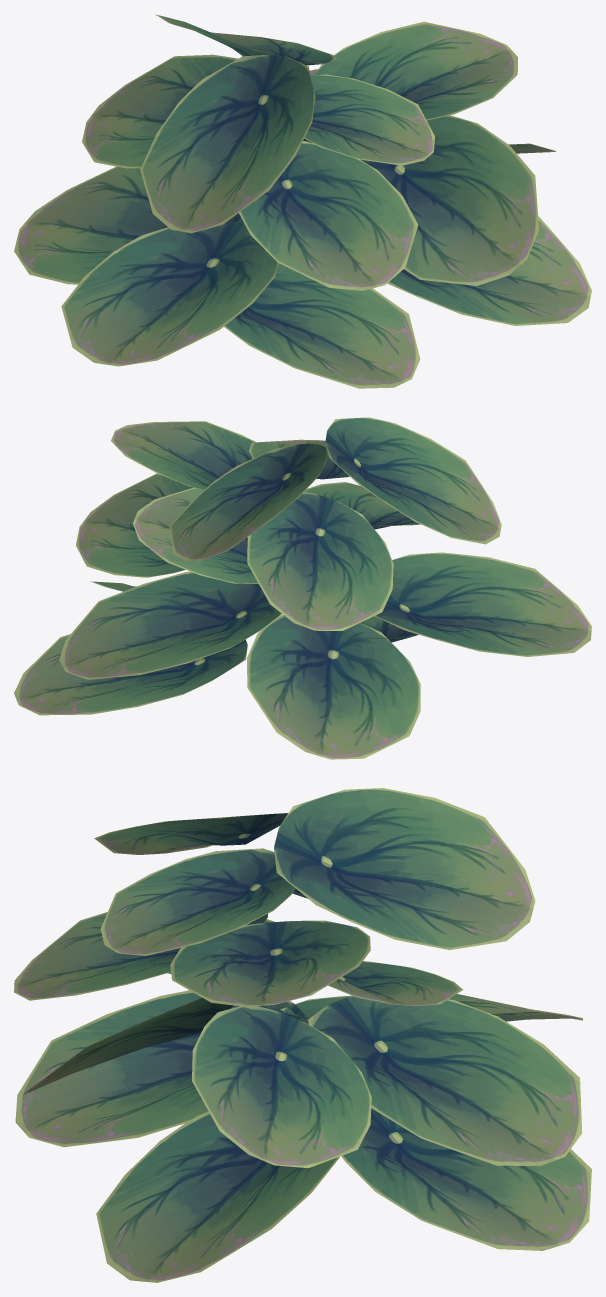
The model's file is mesh_peperomiaPinkLady.fbx.
3 views of the same model, one above another, from view 1: azimuth 30°, elevation 25°; view 2: azimuth 150°, elevation 25°; view 3: azimuth 270°, elevation 25° (orthographic). The views are drawn at different scales.
Visible parts, largest first — view 1: peperomiaPinkLady; view 2: peperomiaPinkLady; view 3: peperomiaPinkLady.
Boxes of the visible parts, left/top/right/bottom form: peperomiaPinkLady: left=14, top=14, right=591, bottom=388; peperomiaPinkLady: left=14, top=417, right=591, bottom=759; peperomiaPinkLady: left=14, top=788, right=591, bottom=1282.
Size of the model in its own units: 0.4619 by 0.2371 by 0.38.
